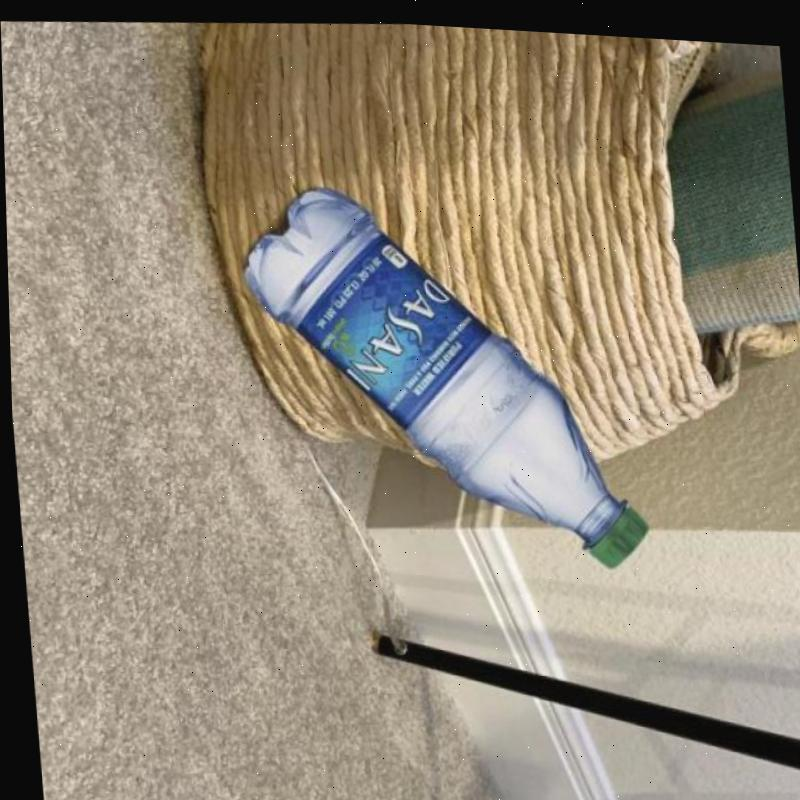botella: (237, 157, 652, 581)
